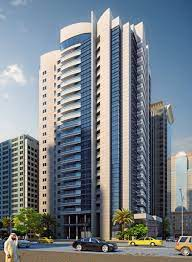high_rise_building: (35, 9, 154, 236)
